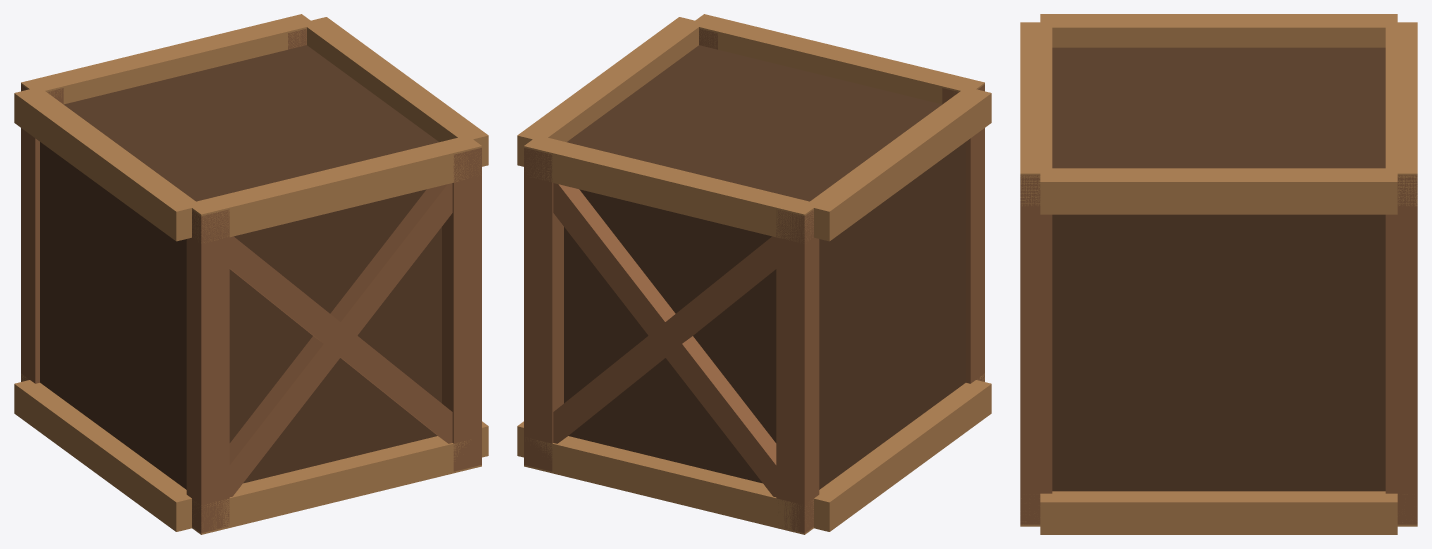
File: ps1_wood_crate_01.glb
3 renders of one model, left to right at view 1: azimuth 30°, elevation 25°; view 2: azimuth 150°, elevation 25°; view 3: azimuth 270°, elevation 25°, orthographic. The views are drawn at different scales.
Parts seen in each view (by area): view 1: Asset_PS1_Wood_Crate_01; view 2: Asset_PS1_Wood_Crate_01; view 3: Asset_PS1_Wood_Crate_01.
Part boxes in pixels (box(x1,y1,x2,y2)): Asset_PS1_Wood_Crate_01: box(14, 14, 488, 534); Asset_PS1_Wood_Crate_01: box(517, 14, 991, 534); Asset_PS1_Wood_Crate_01: box(1020, 14, 1417, 534).
Bounding box in the file's own units: 1.98 × 1.94 × 1.98.
